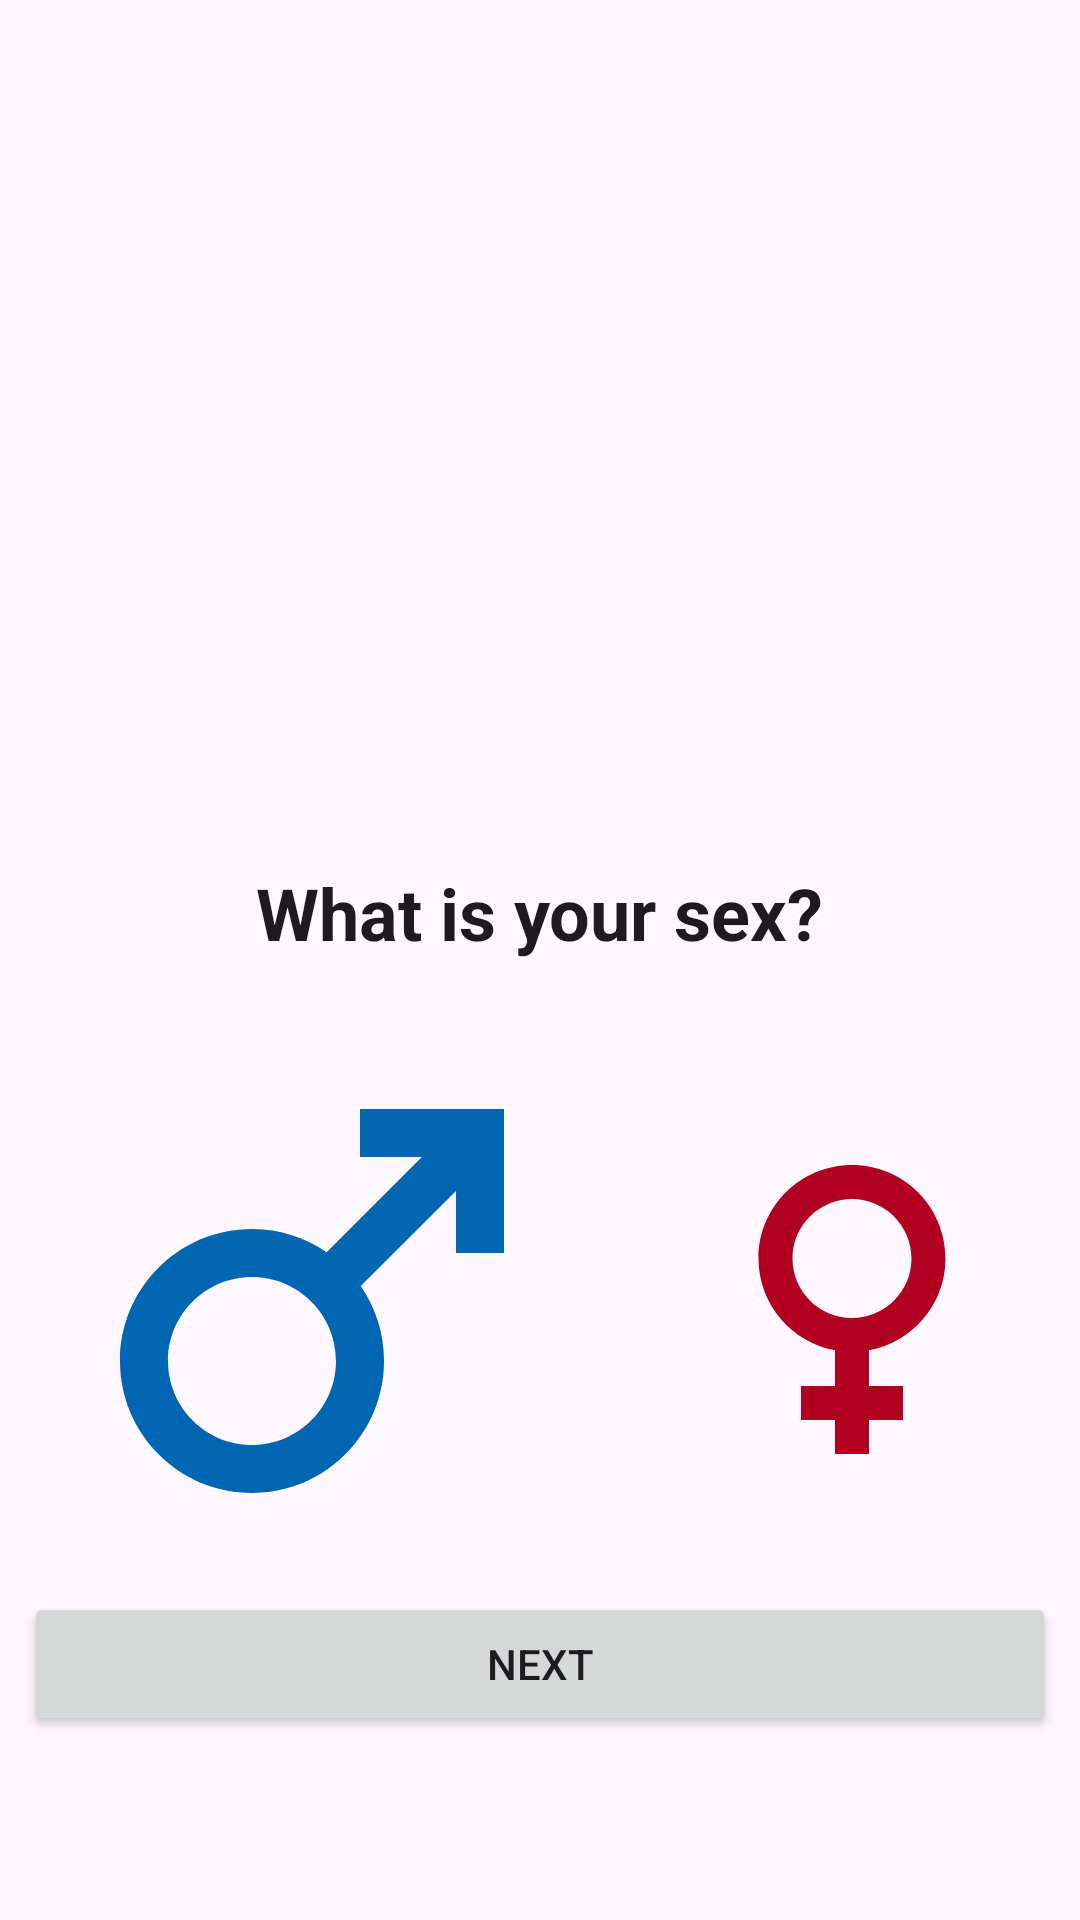

Named icons in this screenshot (1080px x 1920px) and their bounding boxes, [x1,y1,x2,y2]:
female: [758,1165,946,1454]
